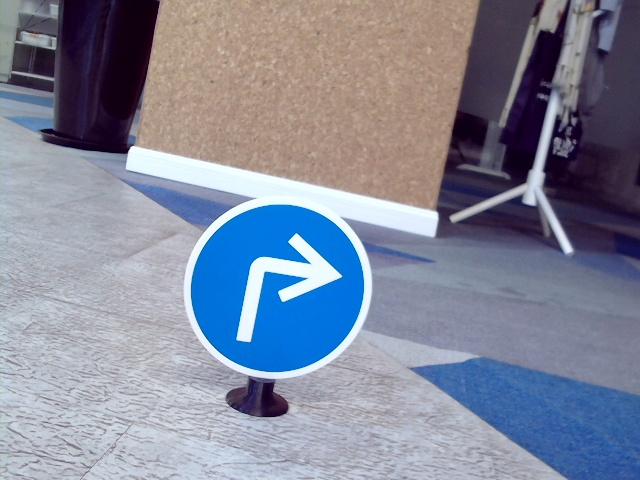turn_right: (231, 228, 339, 348)
